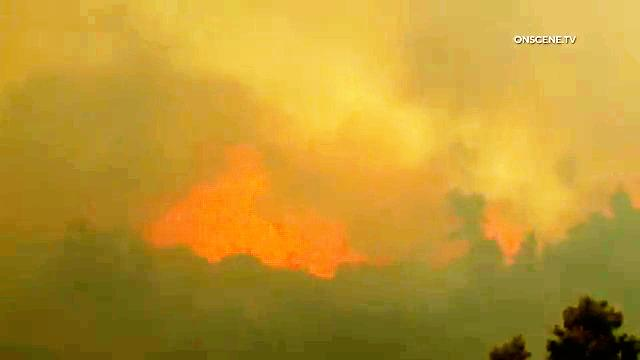smoke: (8, 2, 474, 120)
